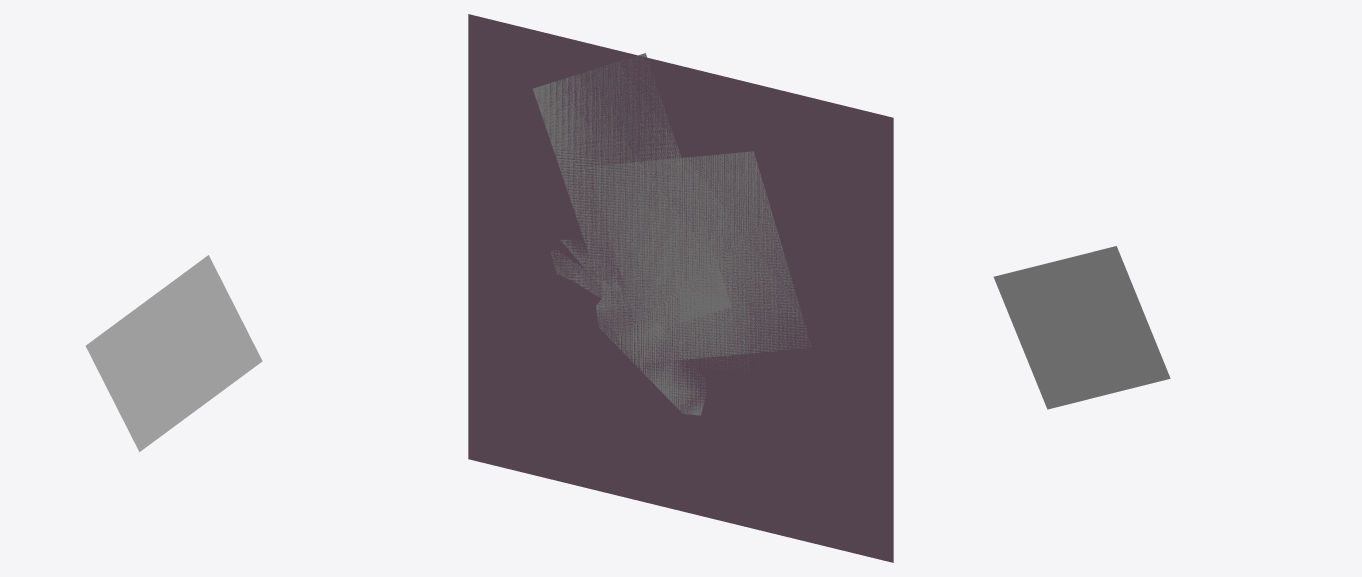
The model's file is Skeleton Prefab Mesh _Butterfly_.glb.
The picture shows the model from 3 angles, left to right: view 1: azimuth 30°, elevation 25°; view 2: azimuth 150°, elevation 25°; view 3: azimuth 330°, elevation 25°; orthographic projection.
Parts seen in each view (by area): view 1: Skeleton Prefab Mesh [Butterfly]; view 2: Skeleton Prefab Mesh [Butterfly]; view 3: Skeleton Prefab Mesh [Butterfly].
Part boxes in pixels (x1,y1,x2,y2): Skeleton Prefab Mesh [Butterfly]: (85, 255, 262, 451); Skeleton Prefab Mesh [Butterfly]: (468, 14, 893, 562); Skeleton Prefab Mesh [Butterfly]: (993, 246, 1170, 409).
Bounding box in the file's own units: 0.6287 × 0.6348 × 0.
